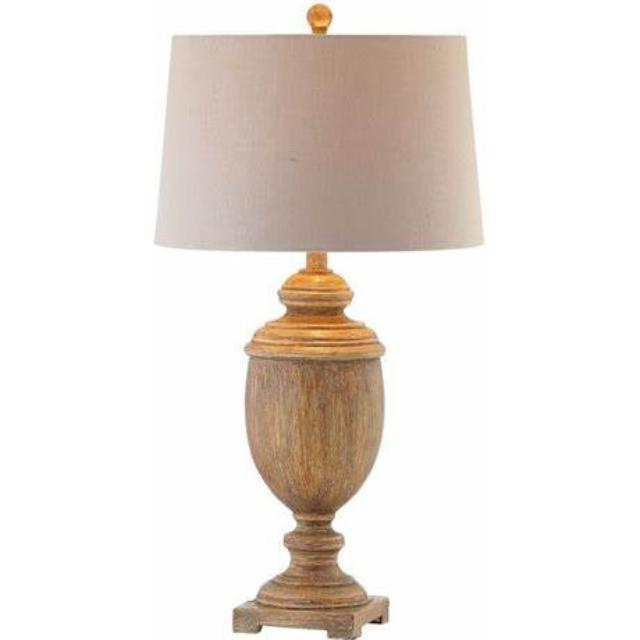lamp: (152, 4, 484, 640)
